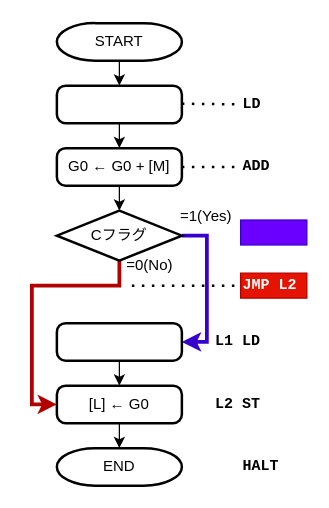
Image size: 329x508. Some labels were removed from this diagram. Here are the shapes that lost their labels. From the top down, the box of each, then its label:
(55, 84, 182, 124): G0 ← [N]
(239, 219, 307, 245): JC L1
(55, 321, 182, 361): G0 ← [MAX]
